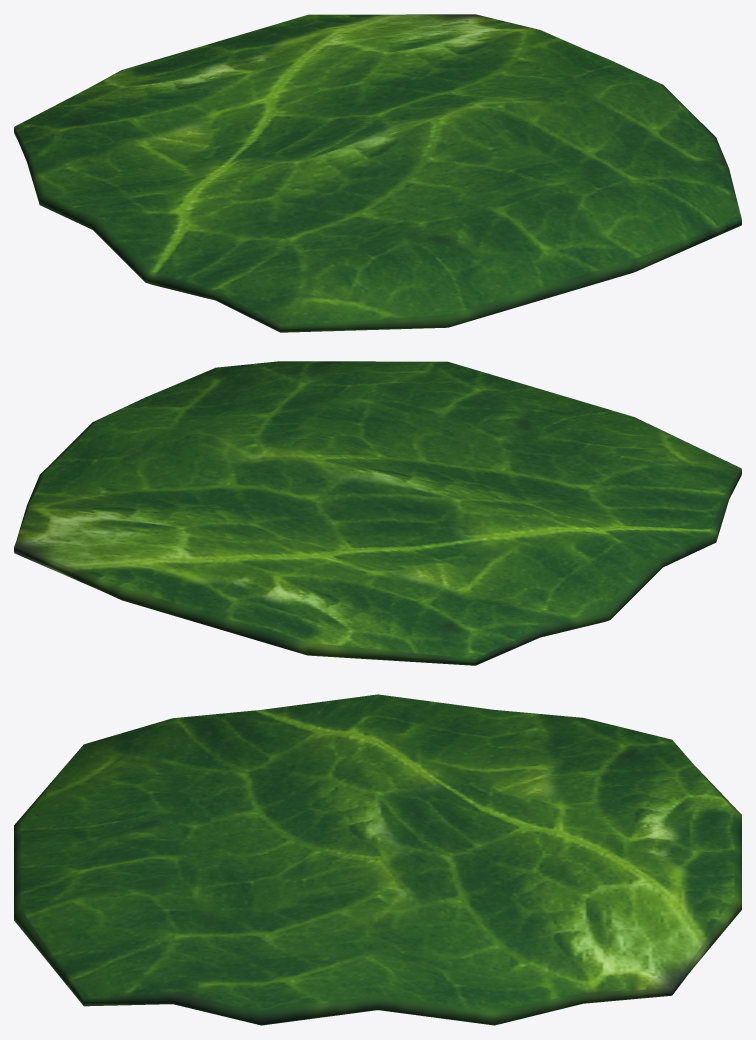
Rendered from lettuce_slice.fbx.
3 views of the same model, one above another, from view 1: azimuth 30°, elevation 25°; view 2: azimuth 150°, elevation 25°; view 3: azimuth 270°, elevation 25° (orthographic). The views are drawn at different scales.
Visible parts, largest first — view 1: Lettuce; view 2: Lettuce; view 3: Lettuce.
Part boxes in pixels (x1,y1,x2,y2): Lettuce: (14,14,741,332); Lettuce: (14,361,741,665); Lettuce: (14,694,741,1025).
Bounding box in the file's own units: 69.94 × 6.31 × 69.94.
